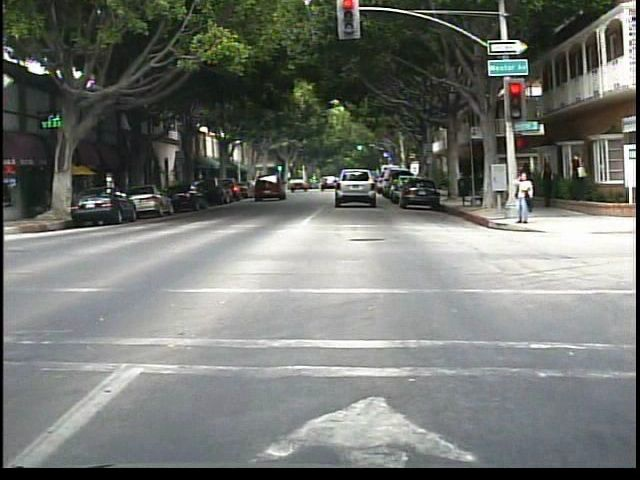person: (509, 169, 535, 227), (567, 149, 592, 203), (538, 159, 561, 216), (518, 157, 535, 209)
